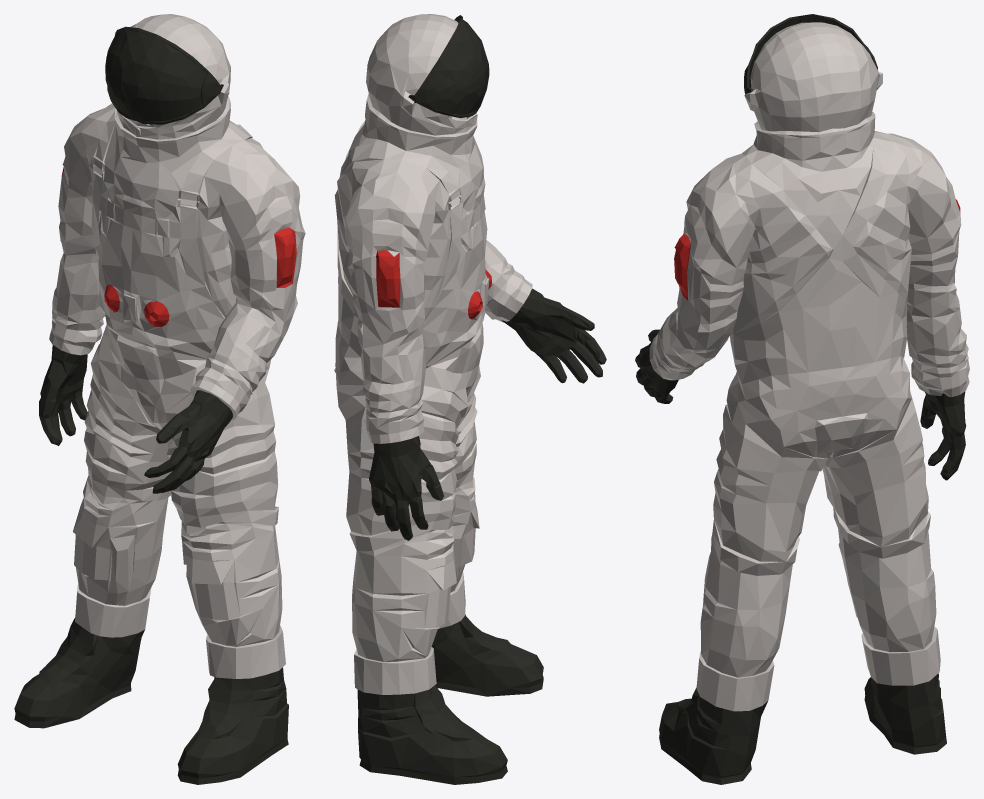
Rendered from 07 Astonaut_2.FBX.
3 views of the same model, side by side, from view 1: azimuth 30°, elevation 25°; view 2: azimuth 150°, elevation 25°; view 3: azimuth 270°, elevation 25° (orthographic). The views are drawn at different scales.
Visible parts, largest first — view 1: suit; view 2: suit; view 3: suit.
Boxes of the visible parts, <box> form: suit: <box>14,14,305,784</box>; suit: <box>334,14,606,784</box>; suit: <box>635,14,969,784</box>.
Size of the model in its own units: 528 by 1780 by 747.
